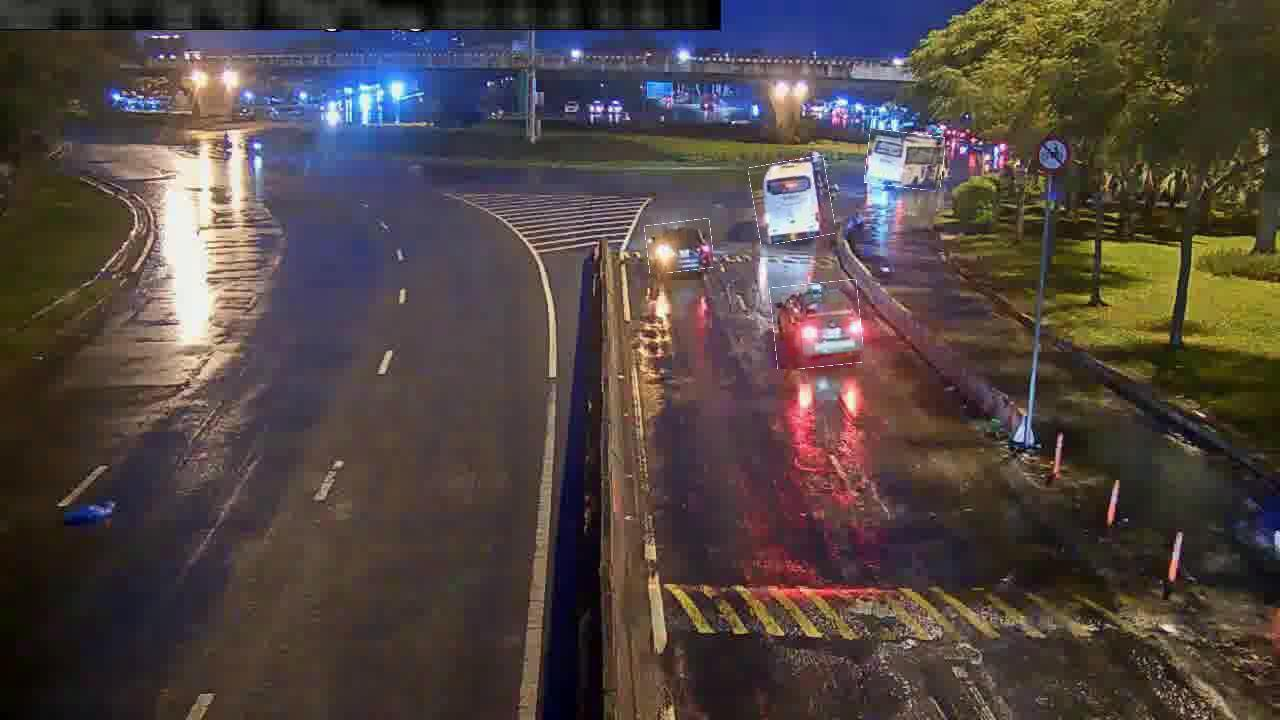14: (751, 158, 833, 243), (866, 131, 945, 189)
container: (771, 281, 862, 368), (646, 220, 713, 273)
